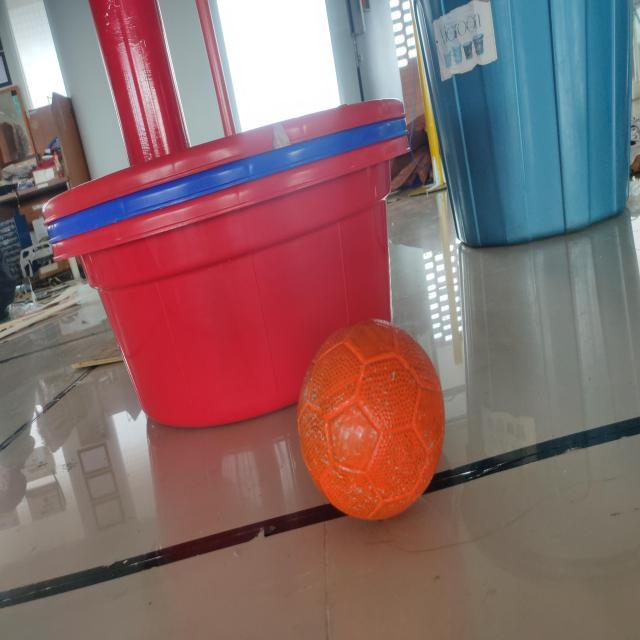bola: (296, 302, 446, 528)
